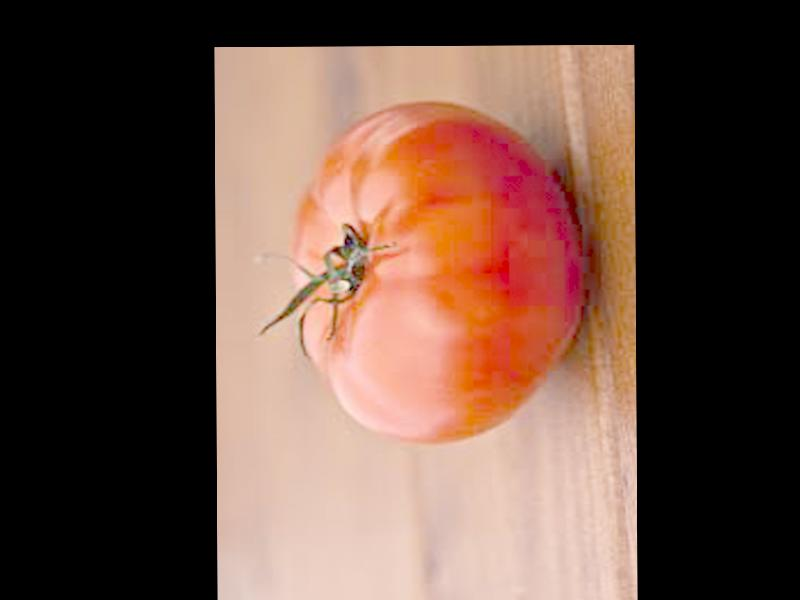Tomato: (290, 102, 584, 448)
